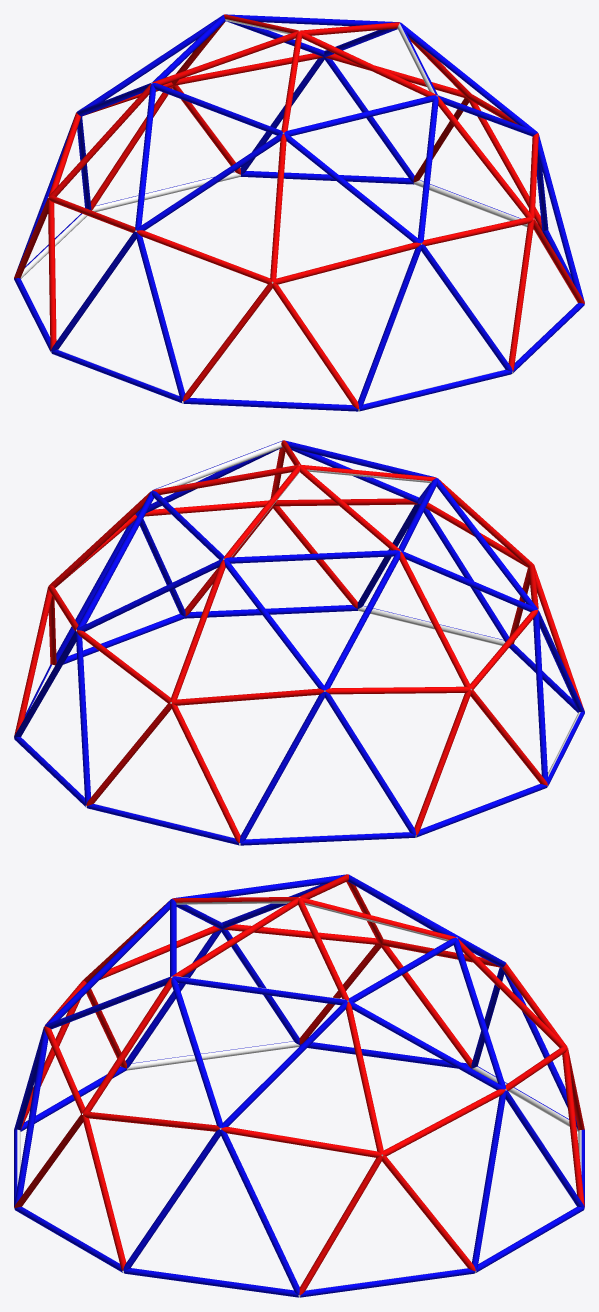
Rendered from dome.fbx.
The picture shows the model from 3 angles, top to bottom: view 1: azimuth 30°, elevation 25°; view 2: azimuth 150°, elevation 25°; view 3: azimuth 270°, elevation 25°; orthographic projection. The views are drawn at different scales.
Visible parts, largest first — view 1: Group1; view 2: Group1; view 3: Group1.
Part boxes in pixels (box(x1,y1,x2,y2)): Group1: box(14, 14, 584, 411); Group1: box(14, 440, 584, 845); Group1: box(14, 874, 584, 1297).
Bounding box in the file's own units: 91.5 × 46.25 × 87.11.
